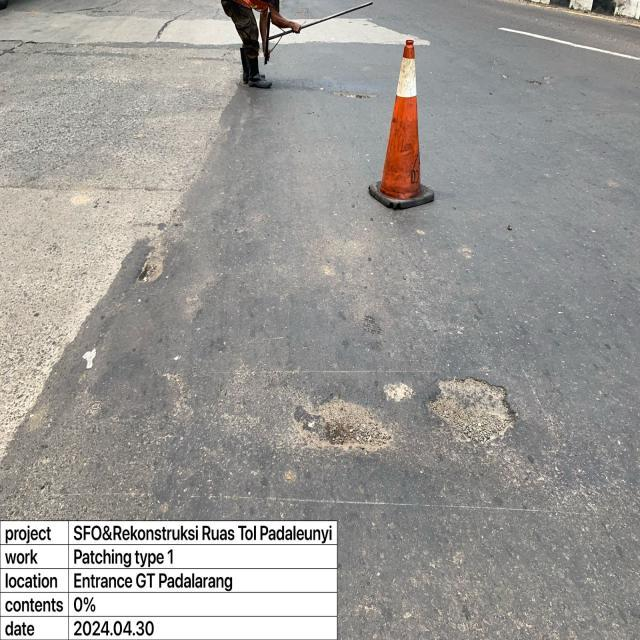Buraco: (280, 380, 398, 456), (421, 374, 521, 451), (129, 232, 172, 288), (378, 378, 419, 405), (326, 88, 382, 103), (523, 78, 545, 88)
